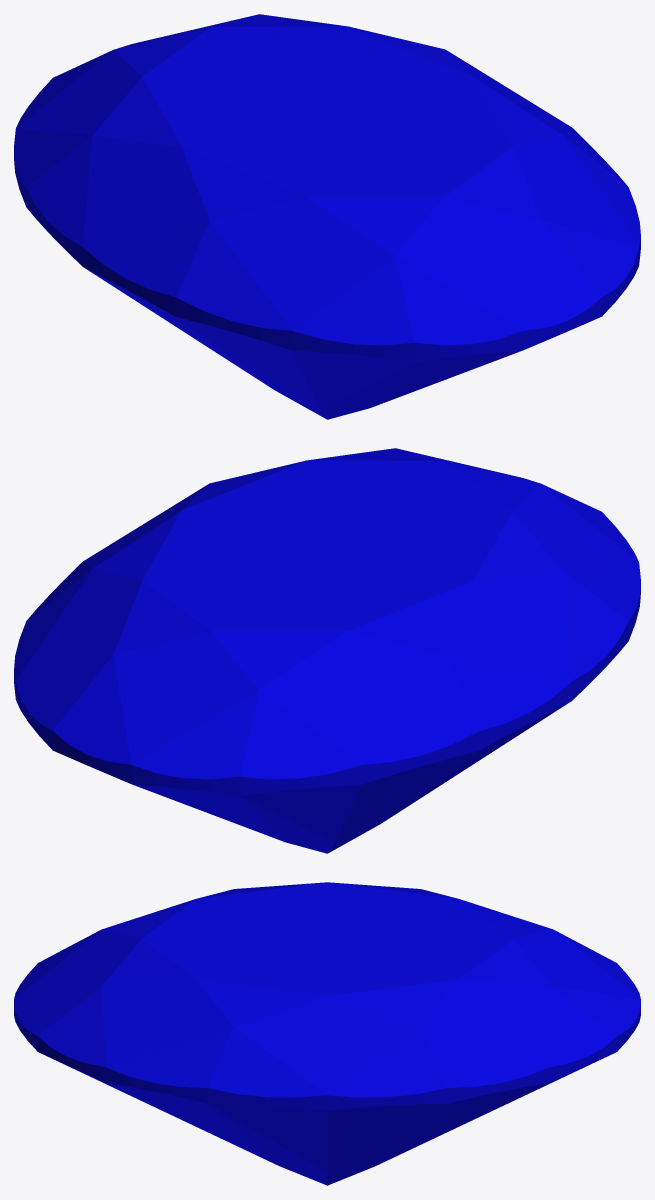
The model's file is Head_No Halo_Oval_2.0ct_Diamond.glb.
The picture shows the model from 3 angles, top to bottom: view 1: azimuth 30°, elevation 25°; view 2: azimuth 150°, elevation 25°; view 3: azimuth 270°, elevation 25°; orthographic projection. The views are drawn at different scales.
Bounding box in the file's own units: 0.00702 × 0.00422 × 0.00973.
